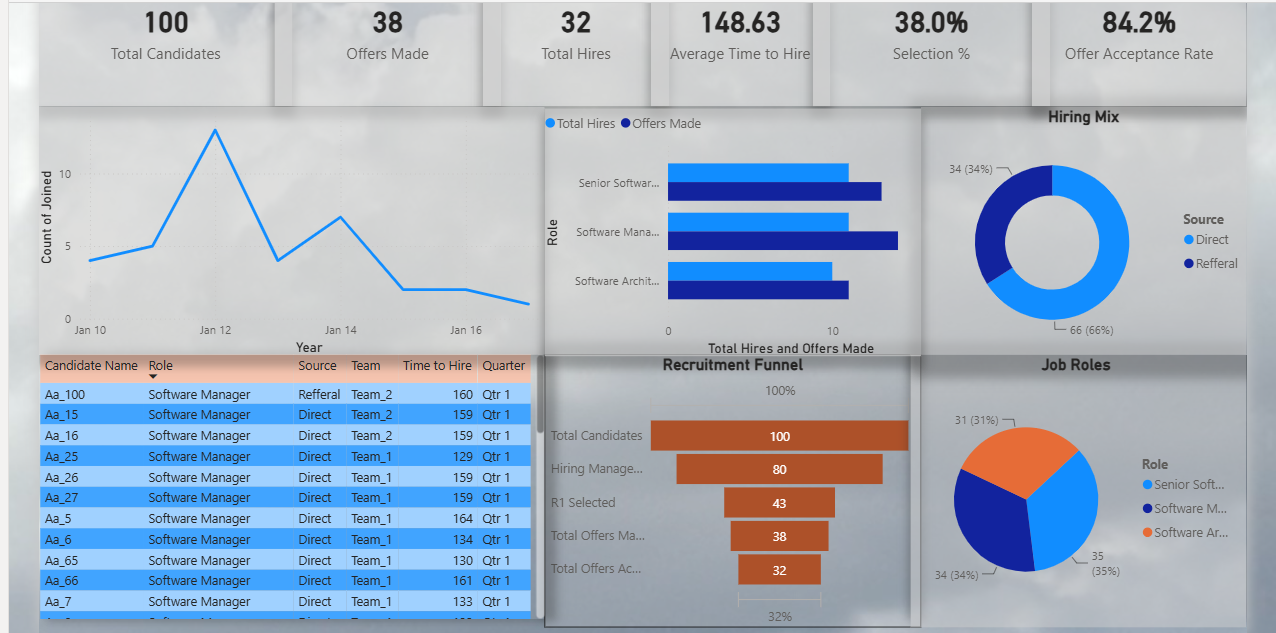

What the dashboard file says about the page in this screenshot:
{"tool":"powerbi","page":{"name":"Page 1","canvas":[1280,720],"ordinal":0},"visuals":[{"type":"card","fields":{"Values":["CountNonNull(Candidate Data.Candidate Name)"]},"box":[0,0,268.8,161],"z":0},{"type":"card","fields":{"Values":["Candidate Data.Total Hires"]},"box":[250,0,240.2,161],"z":1000},{"type":"card","fields":{"Values":["Candidate Data.Total Hires"]},"box":[471.3,0,197.2,161],"z":2000},{"type":"funnel","title":"Recruitment Funnel","fields":{"Y":["CountNonNull(Candidate Data.Candidate Name)","Candidate Data.Count of HM Feedback for Shortlisted","CountNonNull(Candidate Data.Final Select)","CountNonNull(Candidate Data.Joined)","Candidate Data.Count of Joined for Yes"]},"box":[536,424.7,399.2,289.5],"z":3000},{"type":"pieChart","title":"Job Roles","fields":{"Category":["Candidate Data.Role"],"Y":["CountNonNull(Candidate Data.Role)"]},"box":[924.1,424.7,356.3,289.5],"z":4000},{"type":"card","fields":{"Values":["Candidate Data.Average Time to Hire"]},"box":[649.7,0,189.3,161],"z":5000},{"type":"tableEx","fields":{"Values":["Candidate Data.Candidate Name","Candidate Data.Role","Candidate Data.Source","Candidate Data.Team","Sum(Candidate Data.Total Time to Hire)","Candidate Data.Date of Joining.Variation.Date Hierarchy.Quarter"]},"box":[0,424.7,536,279.9],"z":6000},{"type":"lineChart","fields":{"Category":["Candidate Data.Final Select Date.Variation.Date Hierarchy.Year","Candidate Data.Final Select Date.Variation.Date Hierarchy.Quarter","Candidate Data.Final Select Date.Variation.Date Hierarchy.Month","Candidate Data.Final Select Date.Variation.Date Hierarchy.Day"],"Y":["CountNonNull(Candidate Data.Joined)"]},"box":[0,162.2,536,262.5],"z":7000},{"type":"donutChart","title":"Hiring Mix","fields":{"Series":["Candidate Data.Source"],"Y":["CountNonNull(Candidate Data.Team)"]},"box":[935.3,162.2,345.2,262.5],"z":8000},{"type":"card","fields":{"Values":["Candidate Data.Selection %"]},"box":[820.1,0,251.3,161],"z":9000},{"type":"card","fields":{"Values":["Candidate Data.Joining %"]},"box":[1052.5,0,227.5,161],"z":10000},{"type":"clusteredBarChart","fields":{"Category":["Candidate Data.Role"],"Y":["Candidate Data.Total Hires","Candidate Data.Offers Made"]},"box":[536,163.8,399.2,262.5],"z":11000}]}

Visuals, with their boxes in screenshot pixels (x1, y1, x2, y2):
card - CountNonNull(Candidate Data.Candidate Name): x1=40, y1=0, x2=290, y2=106
card - Candidate Data.Total Hires: x1=272, y1=0, x2=496, y2=106
card - Candidate Data.Total Hires: x1=478, y1=0, x2=661, y2=106
"Recruitment Funnel" funnel: x1=538, y1=352, x2=909, y2=621
"Job Roles" pieChart: x1=899, y1=352, x2=1230, y2=621
card - Candidate Data.Average Time to Hire: x1=644, y1=0, x2=820, y2=106
tableEx - Candidate Data.Candidate Name x Candidate Data.Role: x1=40, y1=352, x2=538, y2=612
lineChart - Candidate Data.Final Select Date.Variation.Date Hierarchy.Year x Candidate Data.Final Select Date.Variation.Date Hierarchy.Quarter: x1=40, y1=108, x2=538, y2=352
"Hiring Mix" donutChart: x1=909, y1=108, x2=1230, y2=352
card - Candidate Data.Selection %: x1=802, y1=0, x2=1036, y2=106
card - Candidate Data.Joining %: x1=1018, y1=0, x2=1230, y2=106
clusteredBarChart - Candidate Data.Role x Candidate Data.Total Hires: x1=538, y1=109, x2=909, y2=353
